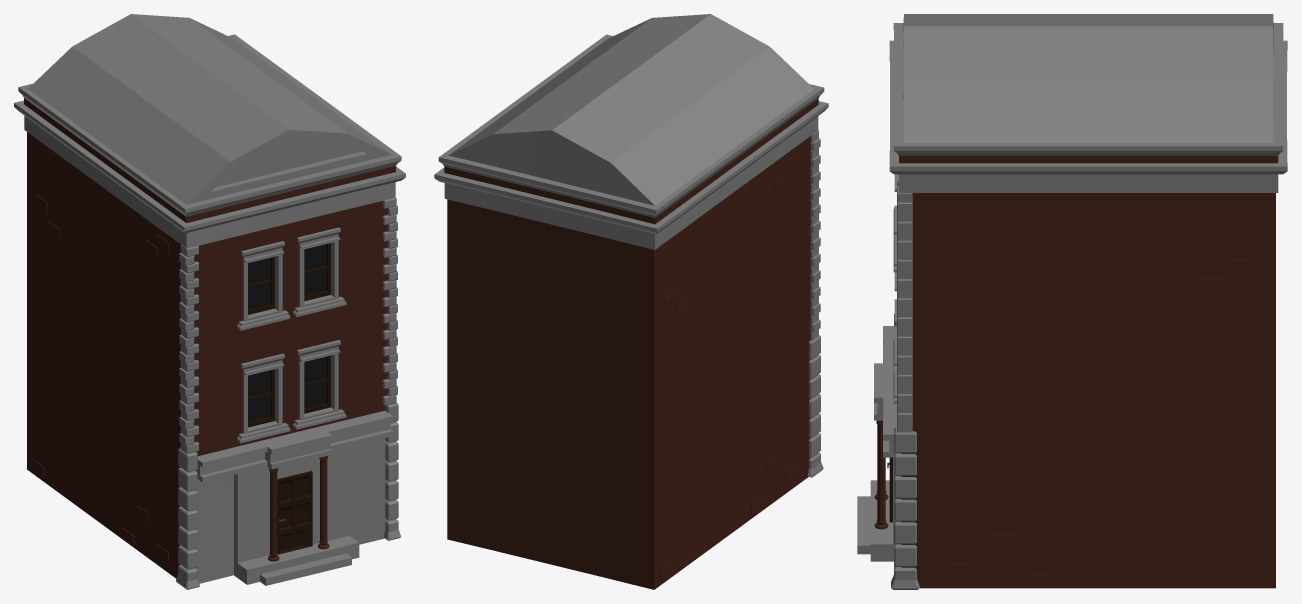
3 views of the same model, side by side, from view 1: azimuth 30°, elevation 25°; view 2: azimuth 150°, elevation 25°; view 3: azimuth 270°, elevation 25° (orthographic). The views are drawn at different scales.
Parts seen in each view (by area): view 1: Building3_Small.001_Cube.019; view 2: Building3_Small.001_Cube.019; view 3: Building3_Small.001_Cube.019.
Part boxes in pixels (x1,y1,x2,y2): Building3_Small.001_Cube.019: (14,14,405,589); Building3_Small.001_Cube.019: (434,14,828,589); Building3_Small.001_Cube.019: (857,14,1287,589).
Size of the model in its own units: 366 by 681 by 528.
